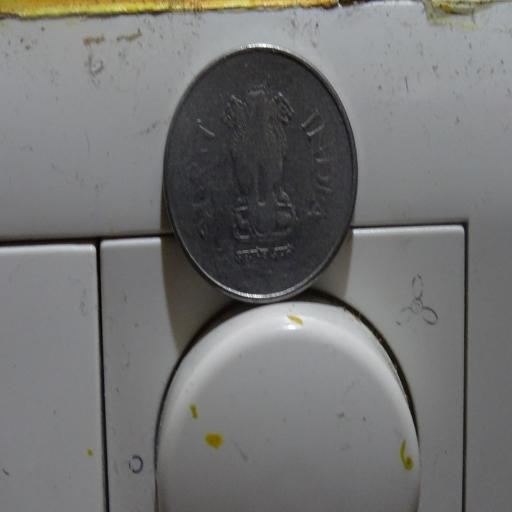rupee1: (160, 47, 355, 302)
